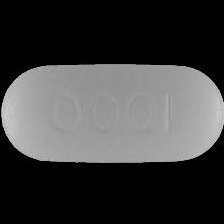0093-7394: (0, 0, 224, 224)
